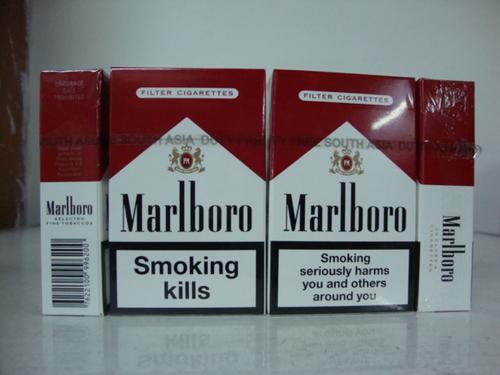marlboro: (112, 68, 263, 315), (276, 72, 419, 312)
